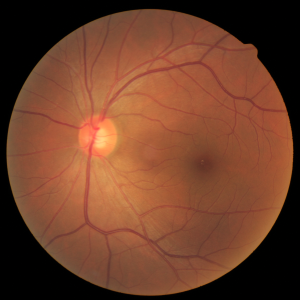healthy_eye: (35, 95, 260, 218)
